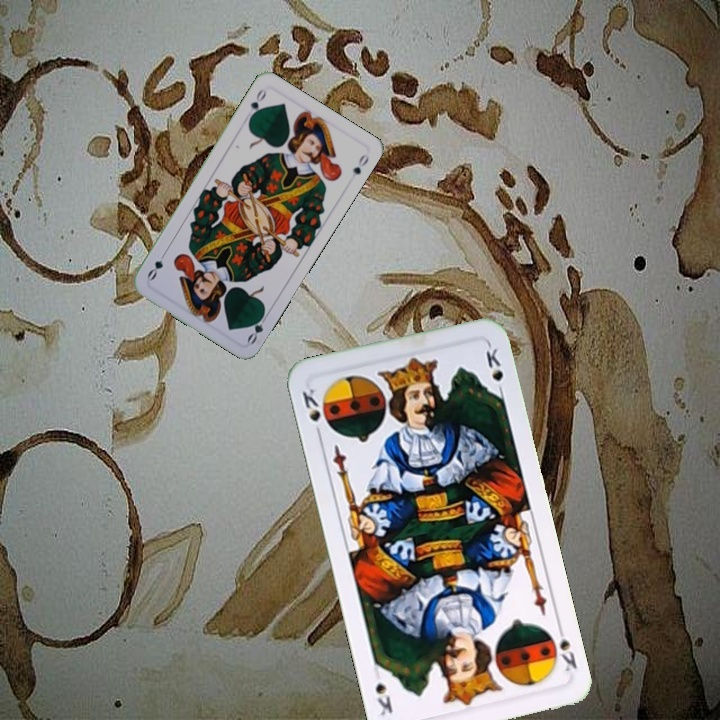GO: (243, 307, 271, 347), (245, 84, 269, 123)
SK: (298, 384, 324, 441), (553, 620, 580, 674)
